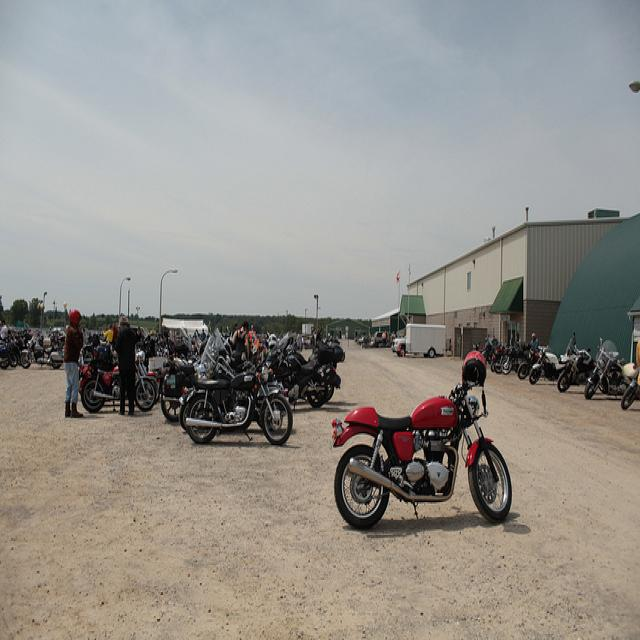motor: (332, 349, 511, 532), (15, 328, 195, 430), (184, 352, 294, 450), (180, 324, 255, 432), (266, 330, 333, 412), (77, 350, 158, 414), (584, 336, 637, 401), (525, 343, 570, 387), (558, 349, 595, 395), (500, 338, 528, 375), (621, 361, 640, 411), (517, 348, 540, 380), (0, 343, 19, 368), (488, 350, 500, 374)
